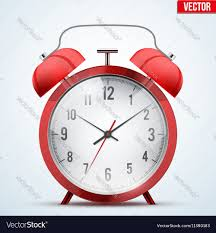alarm_clock: (55, 78, 174, 192)
